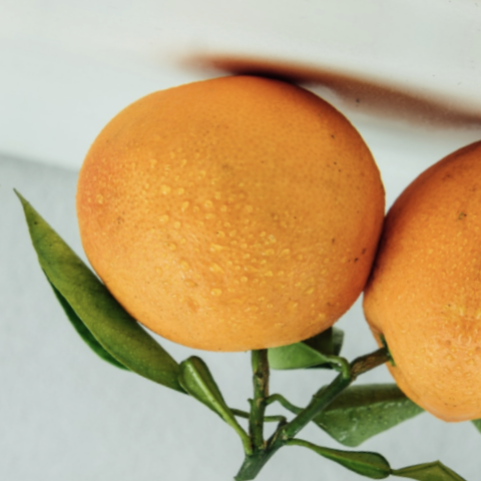orange: (12, 18, 444, 419)
